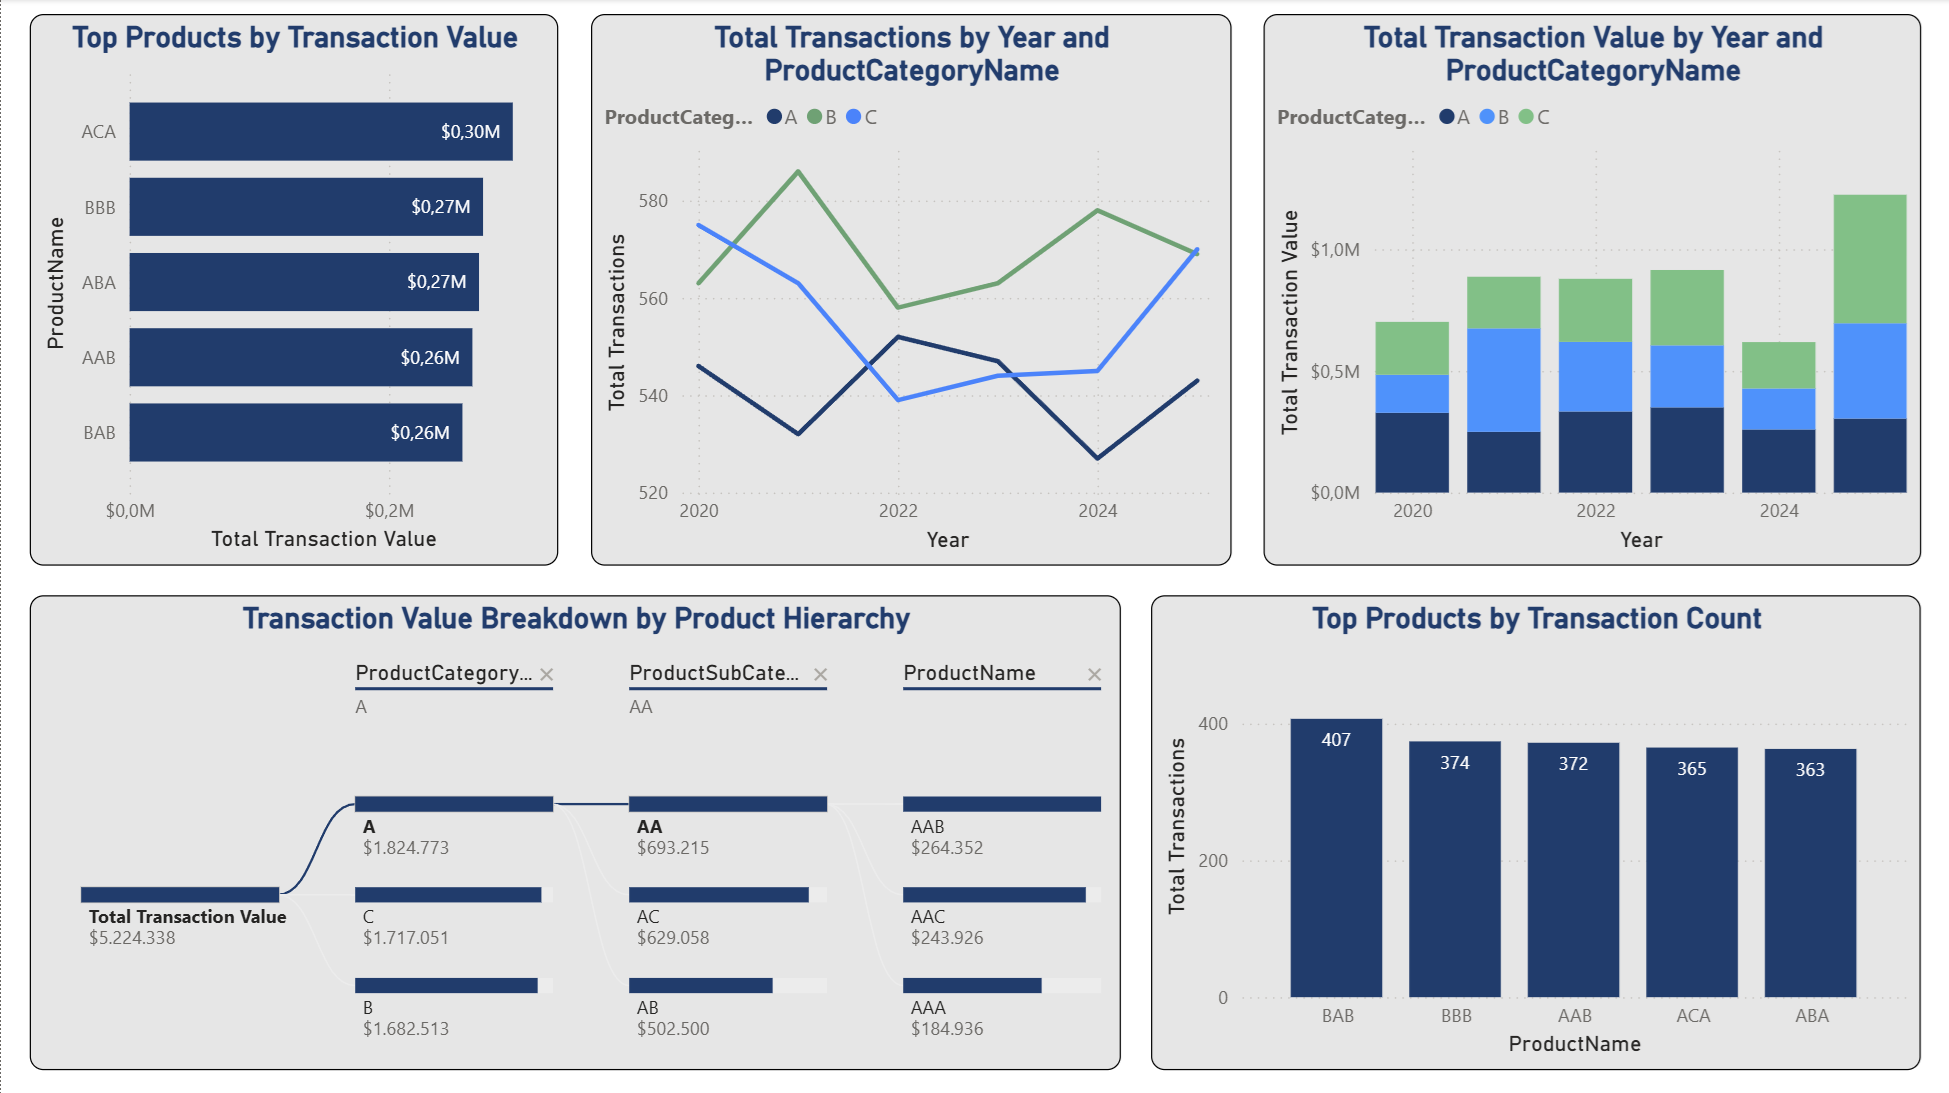

The page's visual inventory and layout, read from the dashboard file:
{"tool":"powerbi","page":{"name":"Product Analytics","canvas":[1280,720],"ordinal":1},"visuals":[{"type":"barChart","title":"Top Products by Transaction Value","fields":{"Category":["DimProduct.ProductName"],"Y":["MeasureTable.Total Transaction Value"]},"box":[18.9,9.9,347.4,362.1],"z":0},{"type":"clusteredColumnChart","title":"Top Products by Transaction Count","fields":{"Category":["DimProduct.ProductName"],"Y":["MeasureTable.Total Transactions"]},"box":[755.5,391.7,505.8,312],"z":1000},{"type":"lineChart","fields":{"Series":["DimProductCategory.ProductCategoryName"],"Y":["MeasureTable.Total Transactions"],"Category":["DimCalendar.Year"]},"box":[387.6,9.9,420.4,362.1],"z":2000},{"type":"columnChart","fields":{"Category":["DimCalendar.Year"],"Y":["MeasureTable.Total Transaction Value"],"Series":["DimProductCategory.ProductCategoryName"]},"box":[829.4,9.9,431.9,362.1],"z":3000},{"type":"decompositionTreeVisual","title":"Transaction Value Breakdown by Product Hierarchy","fields":{"Analyze":["MeasureTable.Total Transaction Value"],"ExplainBy":["DimProductCategory.ProductCategoryName","DimProductSubCategory.ProductSubCategoryName","DimProduct.ProductName"]},"box":[18.9,391.7,716.9,312],"z":5000}]}

Visuals, with their boxes in screenshot pixels (x1, y1, x2, y2), scaled from the page's 1280x720 canvas onto the 1949x1093 screenshot:
"Top Products by Transaction Value" barChart: x1=29, y1=15, x2=558, y2=565
"Top Products by Transaction Count" clusteredColumnChart: x1=1150, y1=595, x2=1921, y2=1068
lineChart - DimProductCategory.ProductCategoryName x MeasureTable.Total Transactions: x1=590, y1=15, x2=1230, y2=565
columnChart - DimCalendar.Year x MeasureTable.Total Transaction Value: x1=1263, y1=15, x2=1921, y2=565
"Transaction Value Breakdown by Product Hierarchy" decompositionTreeVisual: x1=29, y1=595, x2=1120, y2=1068
